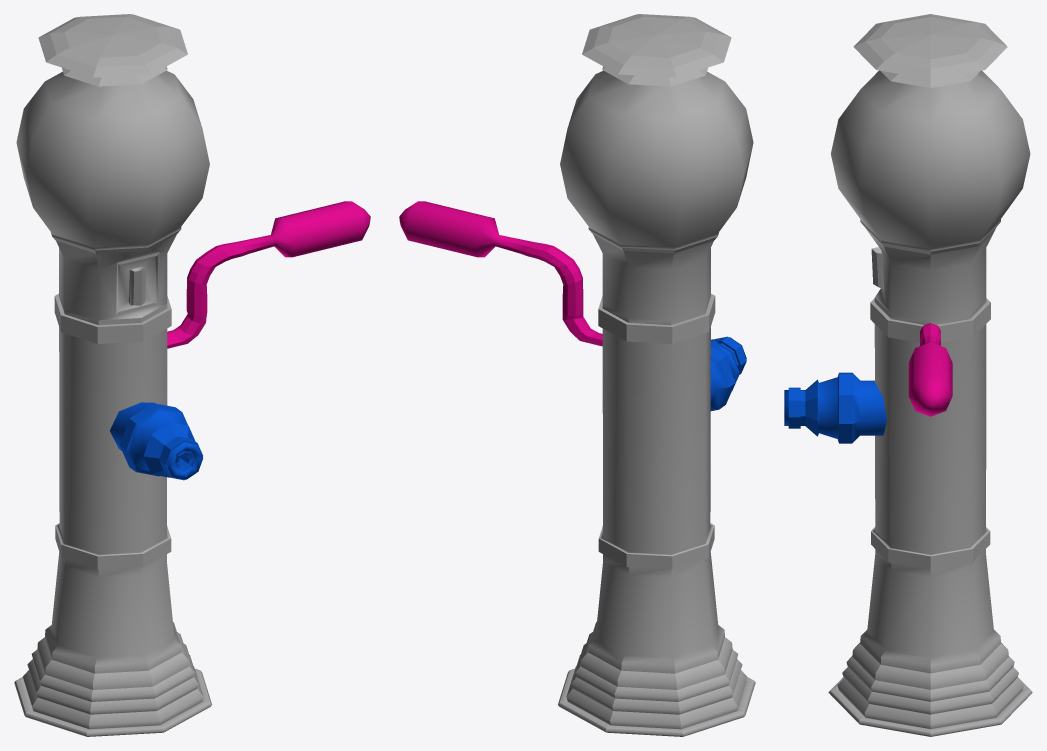
The model's file is maquinadechicles.fbx.
3 renders of one model, left to right at view 1: azimuth 30°, elevation 25°; view 2: azimuth 150°, elevation 25°; view 3: azimuth 270°, elevation 25°, orthographic.
Parts seen in each view (by area): view 1: MaquinaDeChiclesShape, Palanca, pCylinder5; view 2: MaquinaDeChiclesShape, Palanca, pCylinder5; view 3: MaquinaDeChiclesShape, pCylinder5, Palanca.
Part boxes in pixels (left/top/right/bottom): MaquinaDeChiclesShape: left=14, top=14, right=211, bottom=736; Palanca: left=167, top=201, right=370, bottom=348; pCylinder5: left=109, top=402, right=203, bottom=480; MaquinaDeChiclesShape: left=558, top=14, right=755, bottom=736; Palanca: left=399, top=201, right=602, bottom=346; pCylinder5: left=710, top=336, right=746, bottom=410; MaquinaDeChiclesShape: left=828, top=14, right=1032, bottom=736; pCylinder5: left=784, top=372, right=886, bottom=443; Palanca: left=908, top=323, right=952, bottom=416.
Size of the model in its own units: 5.88 by 10.73 by 3.67.
